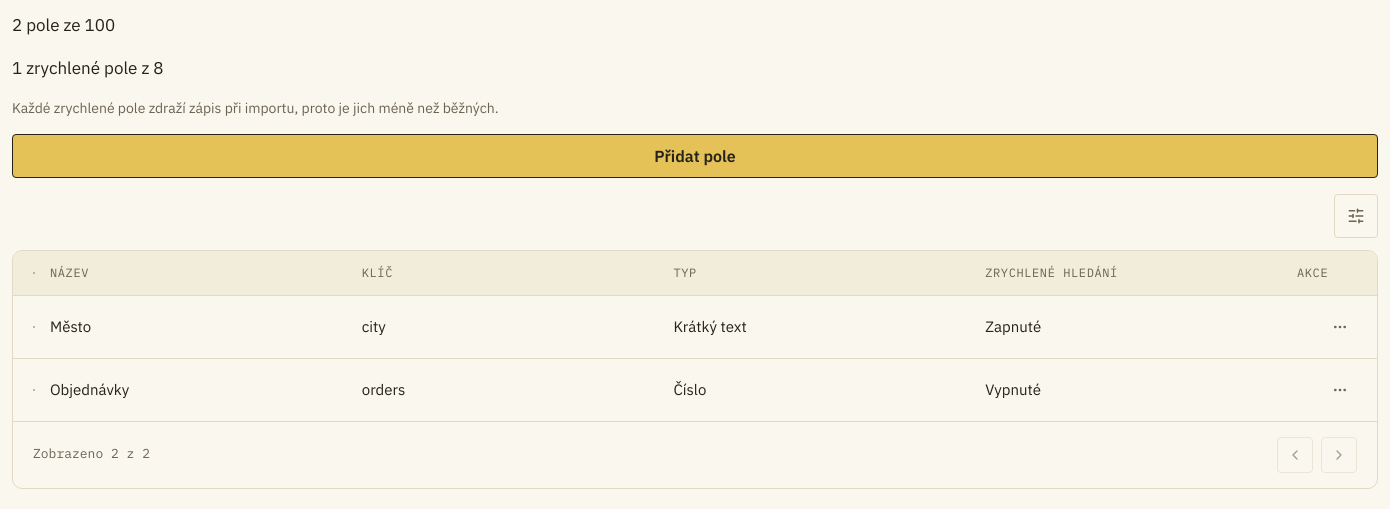
Test: FieldsTable › mazání je v nabídce oddělené od vratných akcí
The width and height of the screenshot is (1390, 509).
Click the button with test id "field-row-menu-city" at {"x": 1340, "y": 327}, box [1323,310,1357,344]
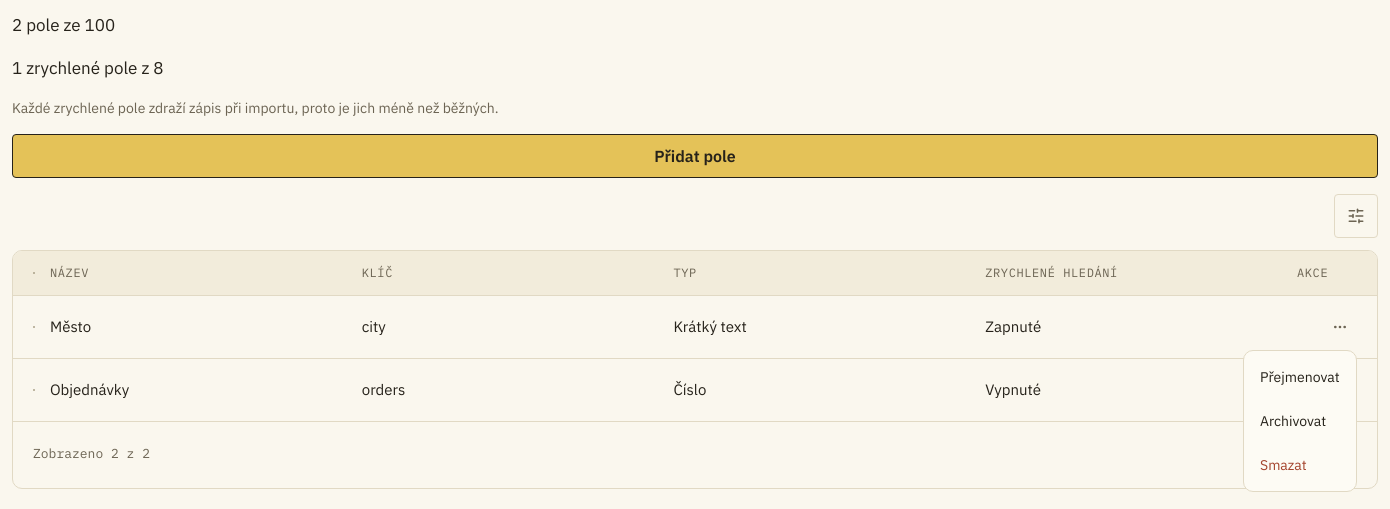
Expected: the menu items read "Přejmenovat", "Archivovat", "Smazat", in this order, [1260,368,1340,386]; [1260,412,1326,430]; [1260,456,1307,474]
